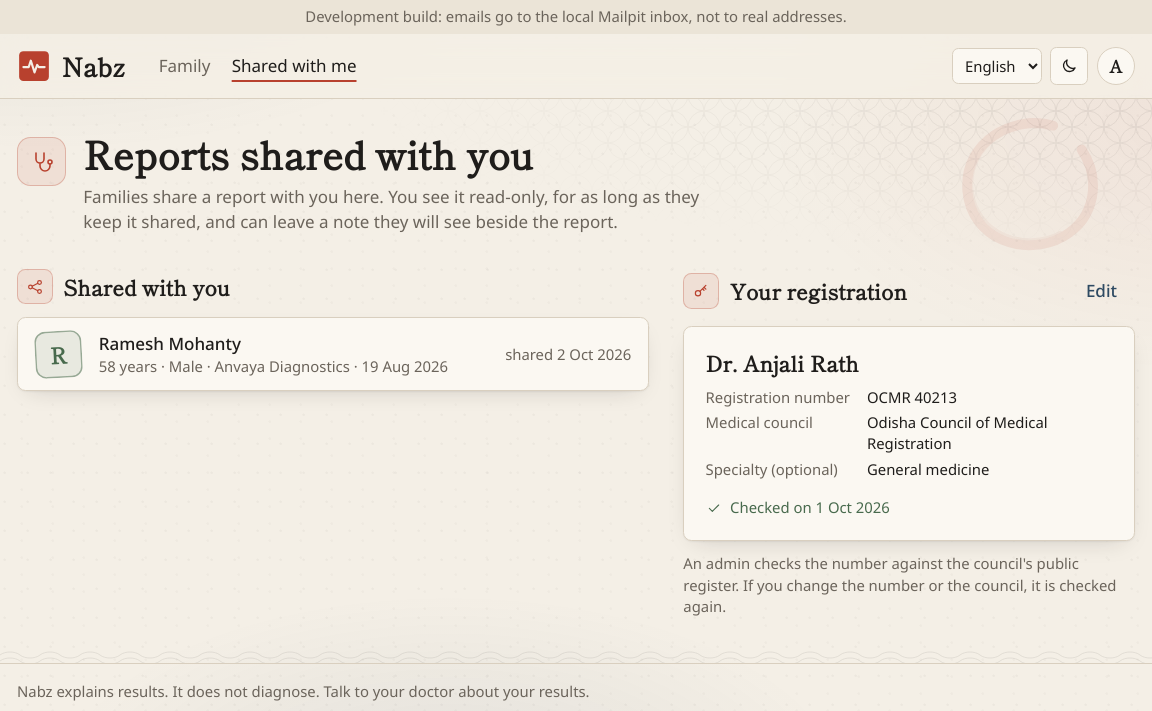
a doctor on Nabz › opens a shared report with exact values and leaves the family a note
Expected: the text "Checked on 1 Oct 2026" is shown, left=706, top=497, right=890, bottom=517
Click the link "Ramesh Mohanty" at (333, 354), box left=17, top=317, right=649, bottom=392
(page scrolled)
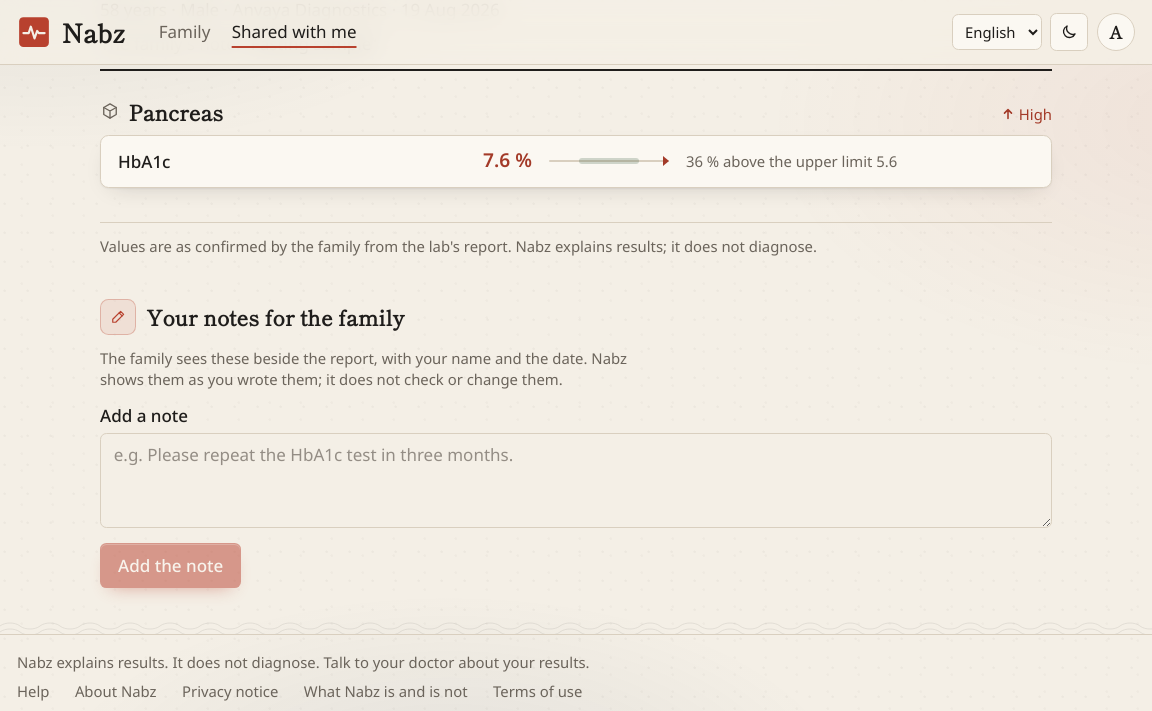
Result: the text "7.6 %" is shown at left=483, top=146, right=532, bottom=176
Result: the text "36 % above the upper limit 5.6" is shown at left=686, top=151, right=897, bottom=171
Result: the text "“Fasting sample”" is shown at left=100, top=32, right=377, bottom=55
Type "Please repeat the HbA1c test in three months." into the text box labelled "Add a note" at (576, 480), box left=100, top=433, right=1052, bottom=528
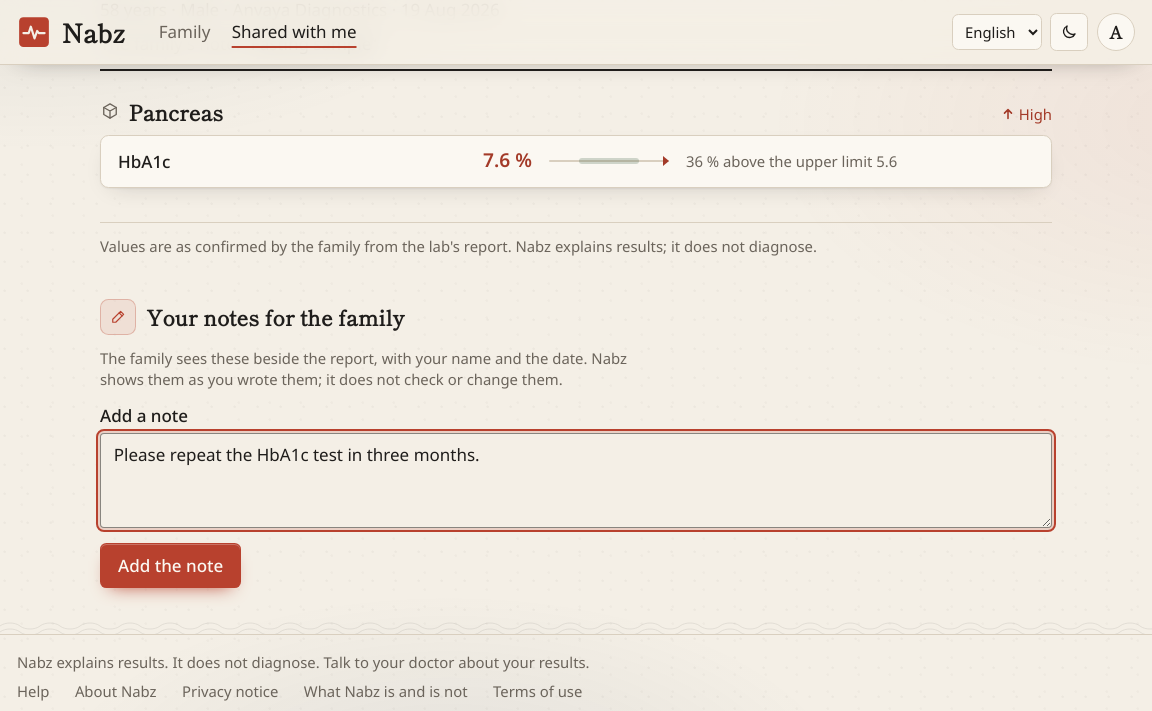
Click the button "Add the note" at (171, 565), box left=100, top=543, right=241, bottom=588
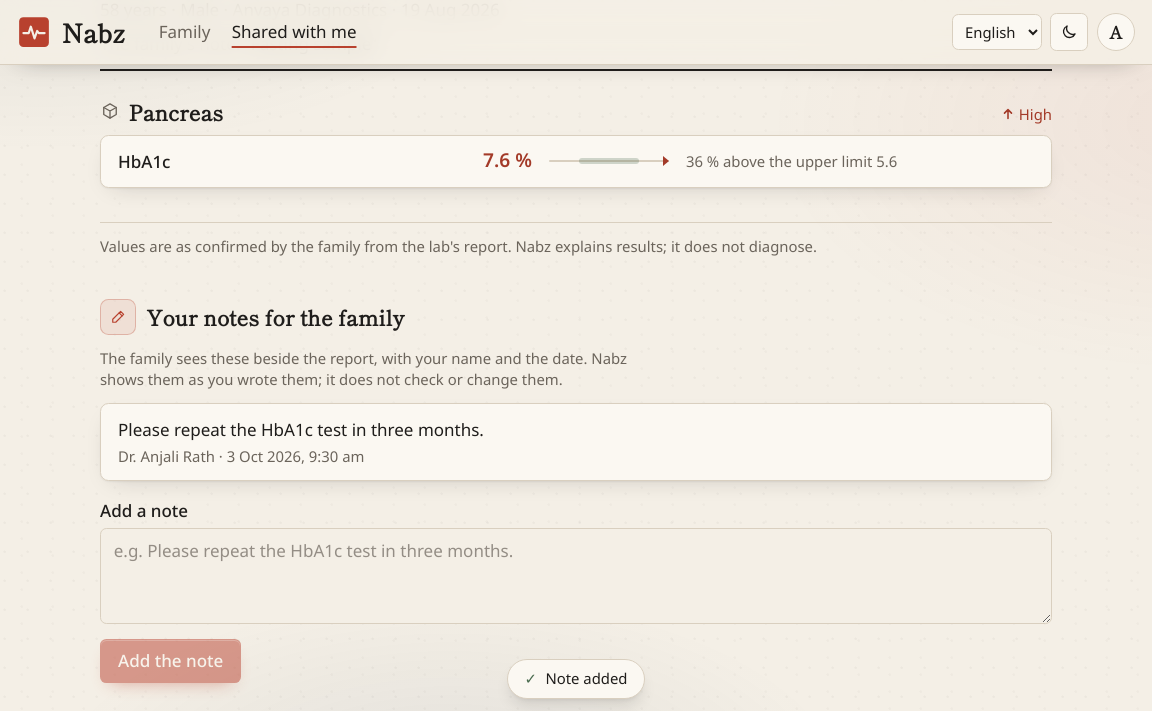
Result: the text "Please repeat the HbA1c test in three months." is shown at left=118, top=418, right=484, bottom=441
